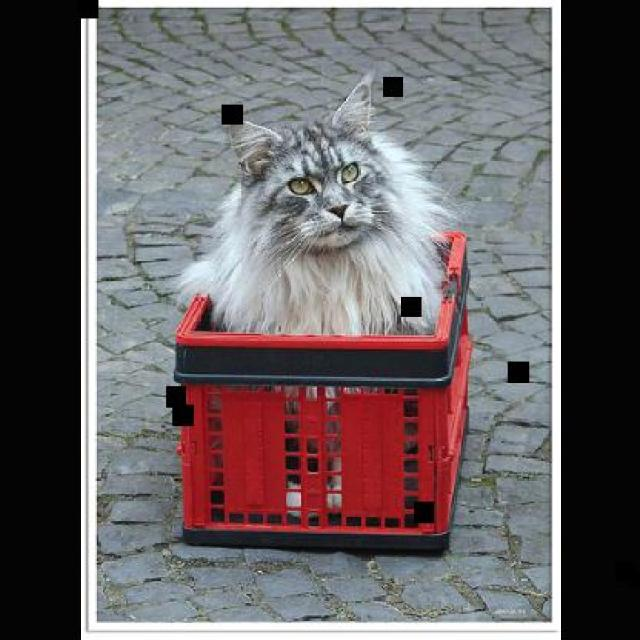unauthorized: (173, 68, 464, 337)
